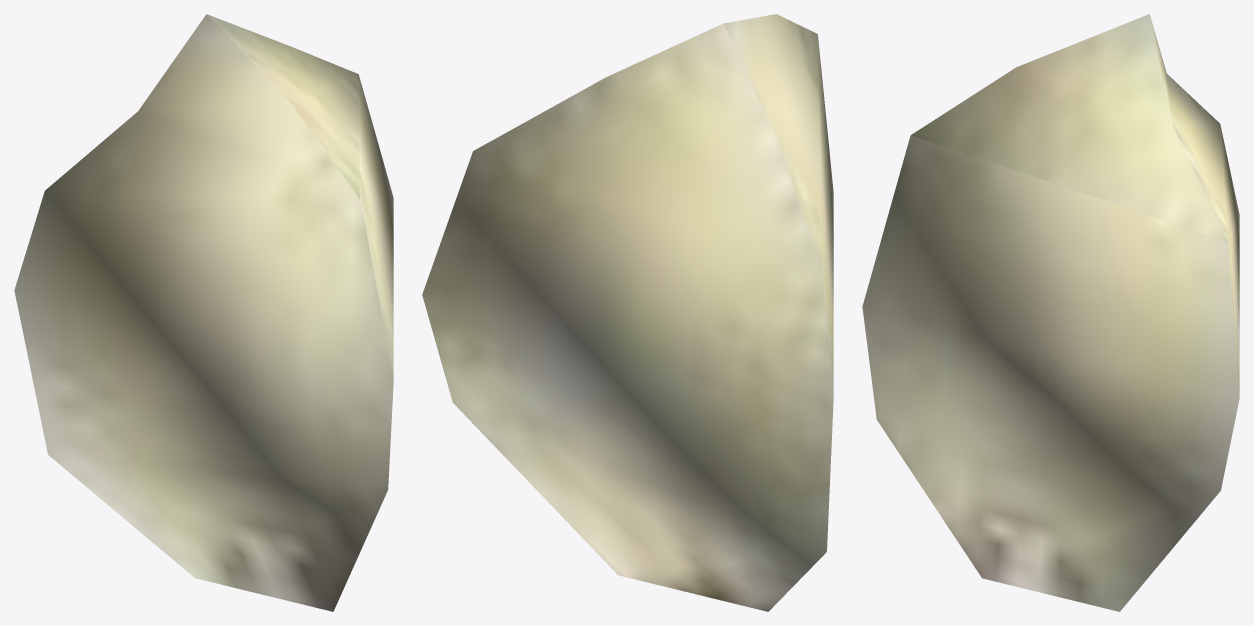
File: Garlic_01.glb
The picture shows the model from 3 angles, left to right: view 1: azimuth 30°, elevation 25°; view 2: azimuth 150°, elevation 25°; view 3: azimuth 270°, elevation 25°; orthographic projection. The views are drawn at different scales.
Parts seen in each view (by area): view 1: Garlic_01; view 2: Garlic_01; view 3: Garlic_01.
Boxes of the visible parts, x1,y1,x2,y2 form: Garlic_01: [14, 14, 393, 611]; Garlic_01: [422, 14, 833, 611]; Garlic_01: [862, 14, 1239, 611].
Bounding box in the file's own units: 0.0402 × 0.0554 × 0.0349.
Materials: 1 (1 with a texture image).
